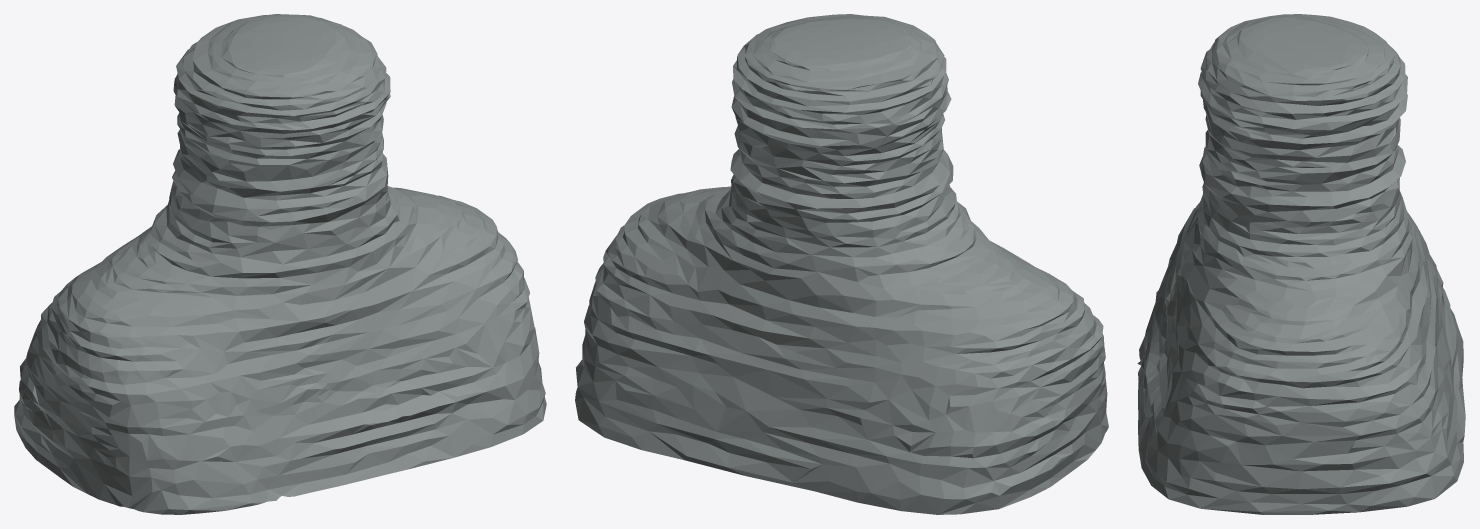
Rendered from mesh_rock_huge_03.fbx.
3 renders of one model, left to right at view 1: azimuth 30°, elevation 25°; view 2: azimuth 150°, elevation 25°; view 3: azimuth 270°, elevation 25°, orthographic. The views are drawn at different scales.
Parts seen in each view (by area): view 1: mesh_rock_huge_03_LOD0; view 2: mesh_rock_huge_03_LOD0; view 3: mesh_rock_huge_03_LOD0.
Part boxes in pixels (x1,y1,x2,y2): mesh_rock_huge_03_LOD0: (14,14,546,514); mesh_rock_huge_03_LOD0: (575,14,1108,514); mesh_rock_huge_03_LOD0: (1137,14,1465,514).
Size of what is drawn, in the model's own units: 11.55 by 9.01 by 7.31.
